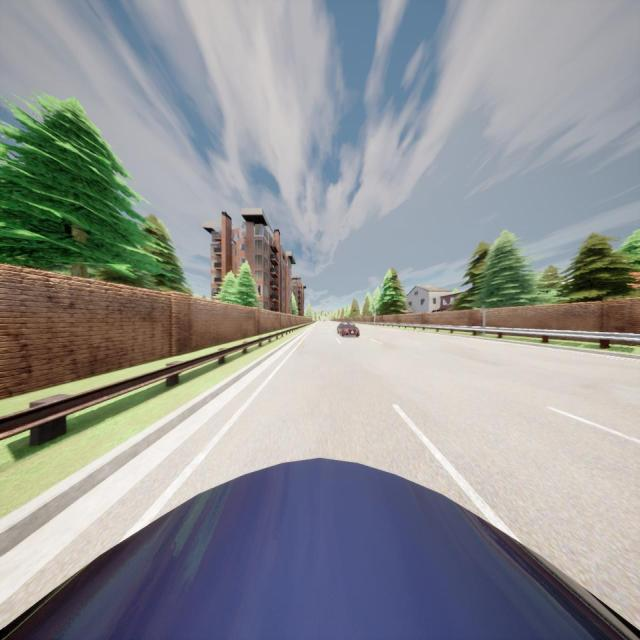Vehicle: (0, 457, 640, 640), (336, 321, 361, 338)
